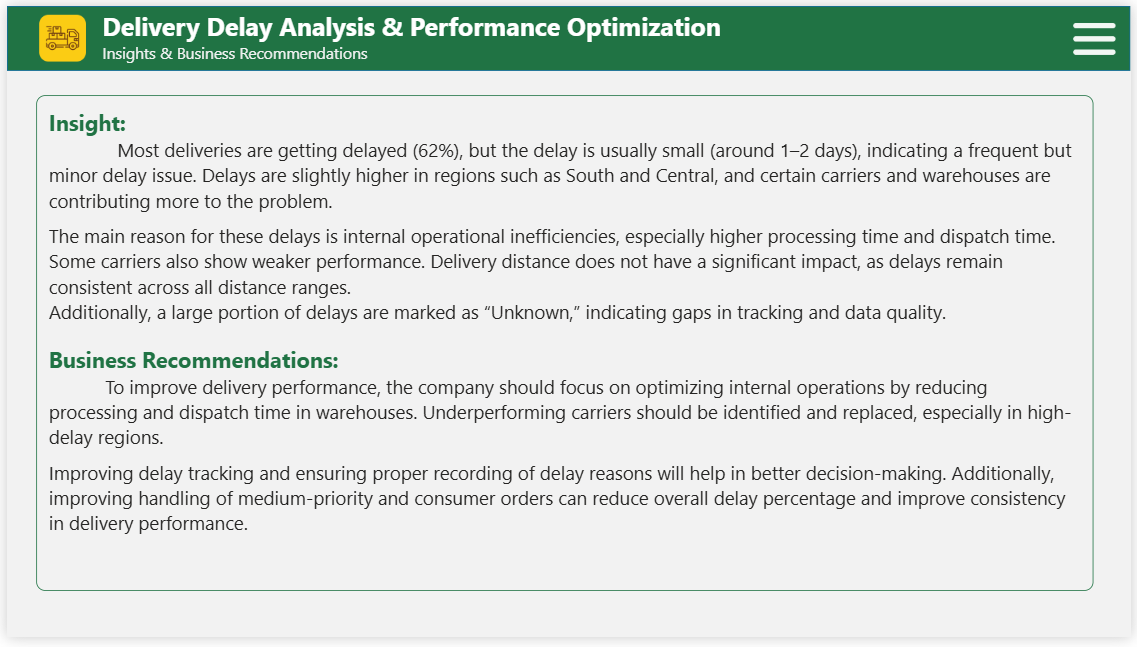

This screenshot's page, from the dashboard's own definition file:
{"tool":"powerbi","page":{"name":"Insights & Action","canvas":[1920,1080],"ordinal":2},"visuals":[{"type":"textbox","box":[50,152.5,1807.5,847.5],"z":0},{"type":"shape","title":"Title Bg Box","box":[0,0,1920,110.9],"z":1000},{"type":"textbox","title":"Title Box","box":[150,0,1100,110],"z":2000},{"type":"image","title":"Logo ","box":[56,16,80,80],"z":3000},{"type":"image","title":"Menu Icon","box":[1822,20,72.5,72.5],"z":4000}]}

Visuals, with their boxes in screenshot pixels (x1, y1, x2, y2), scaled from the page's 1920x1080 canvas onto the 1137x647 screenshot:
textbox: rect(30, 91, 1100, 599)
"Title Bg Box" shape: rect(0, 0, 1136, 66)
"Title Box" textbox: rect(89, 0, 740, 66)
"Logo " image: rect(33, 10, 81, 58)
"Menu Icon" image: rect(1079, 12, 1122, 55)
